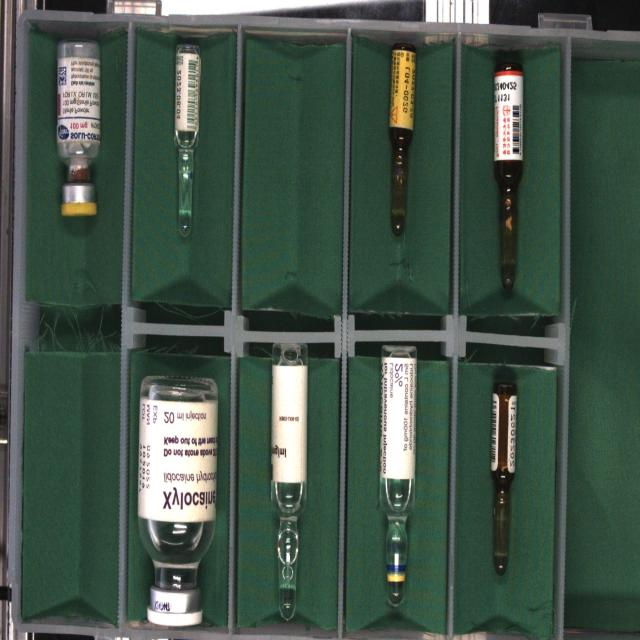Vials: (138, 374, 218, 627), (56, 40, 100, 217)
